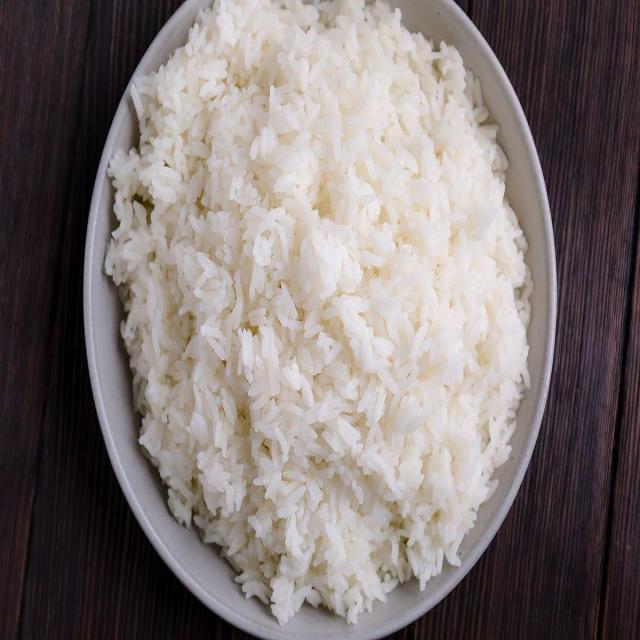rice: (104, 0, 533, 630)
